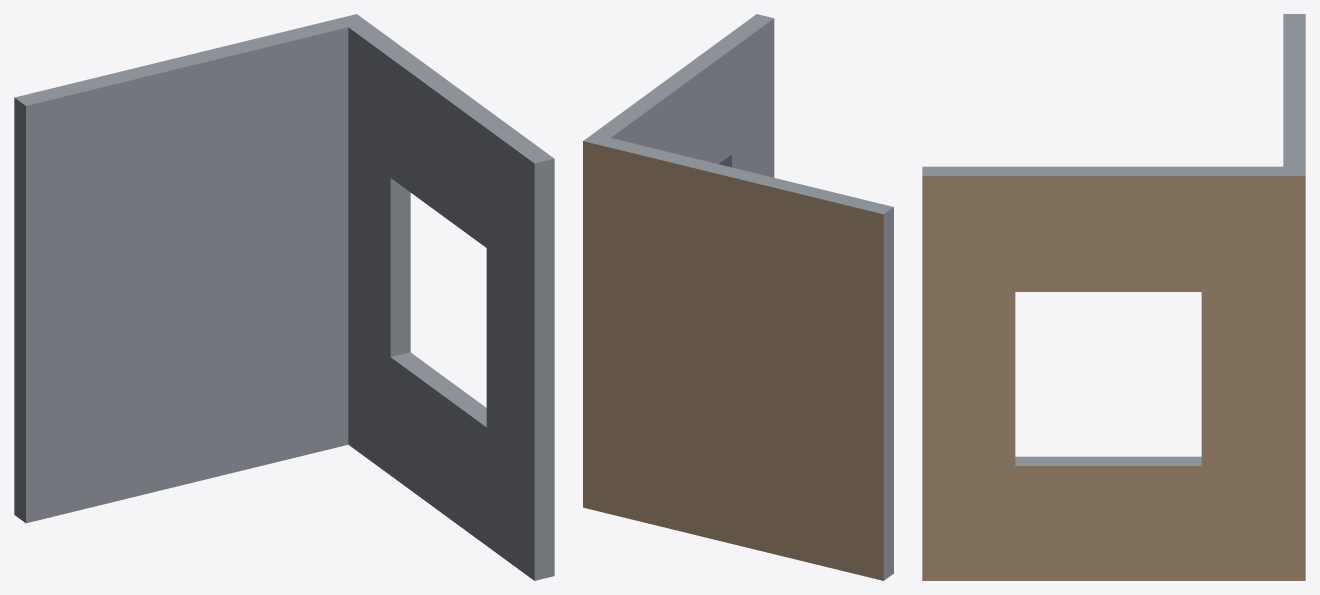
File: Wall2_C6_11.fbx
3 views of the same model, side by side, from view 1: azimuth 30°, elevation 25°; view 2: azimuth 150°, elevation 25°; view 3: azimuth 270°, elevation 25° (orthographic). The views are drawn at different scales.
Parts seen in each view (by area): view 1: Wall2_C6_11; view 2: Wall2_C6_11; view 3: Wall2_C6_11.
Part boxes in pixels (x1,y1,x2,y2): Wall2_C6_11: [14, 14, 554, 580]; Wall2_C6_11: [583, 14, 893, 580]; Wall2_C6_11: [922, 14, 1305, 580].
Size of the model in its own units: 258 by 300 by 258.
